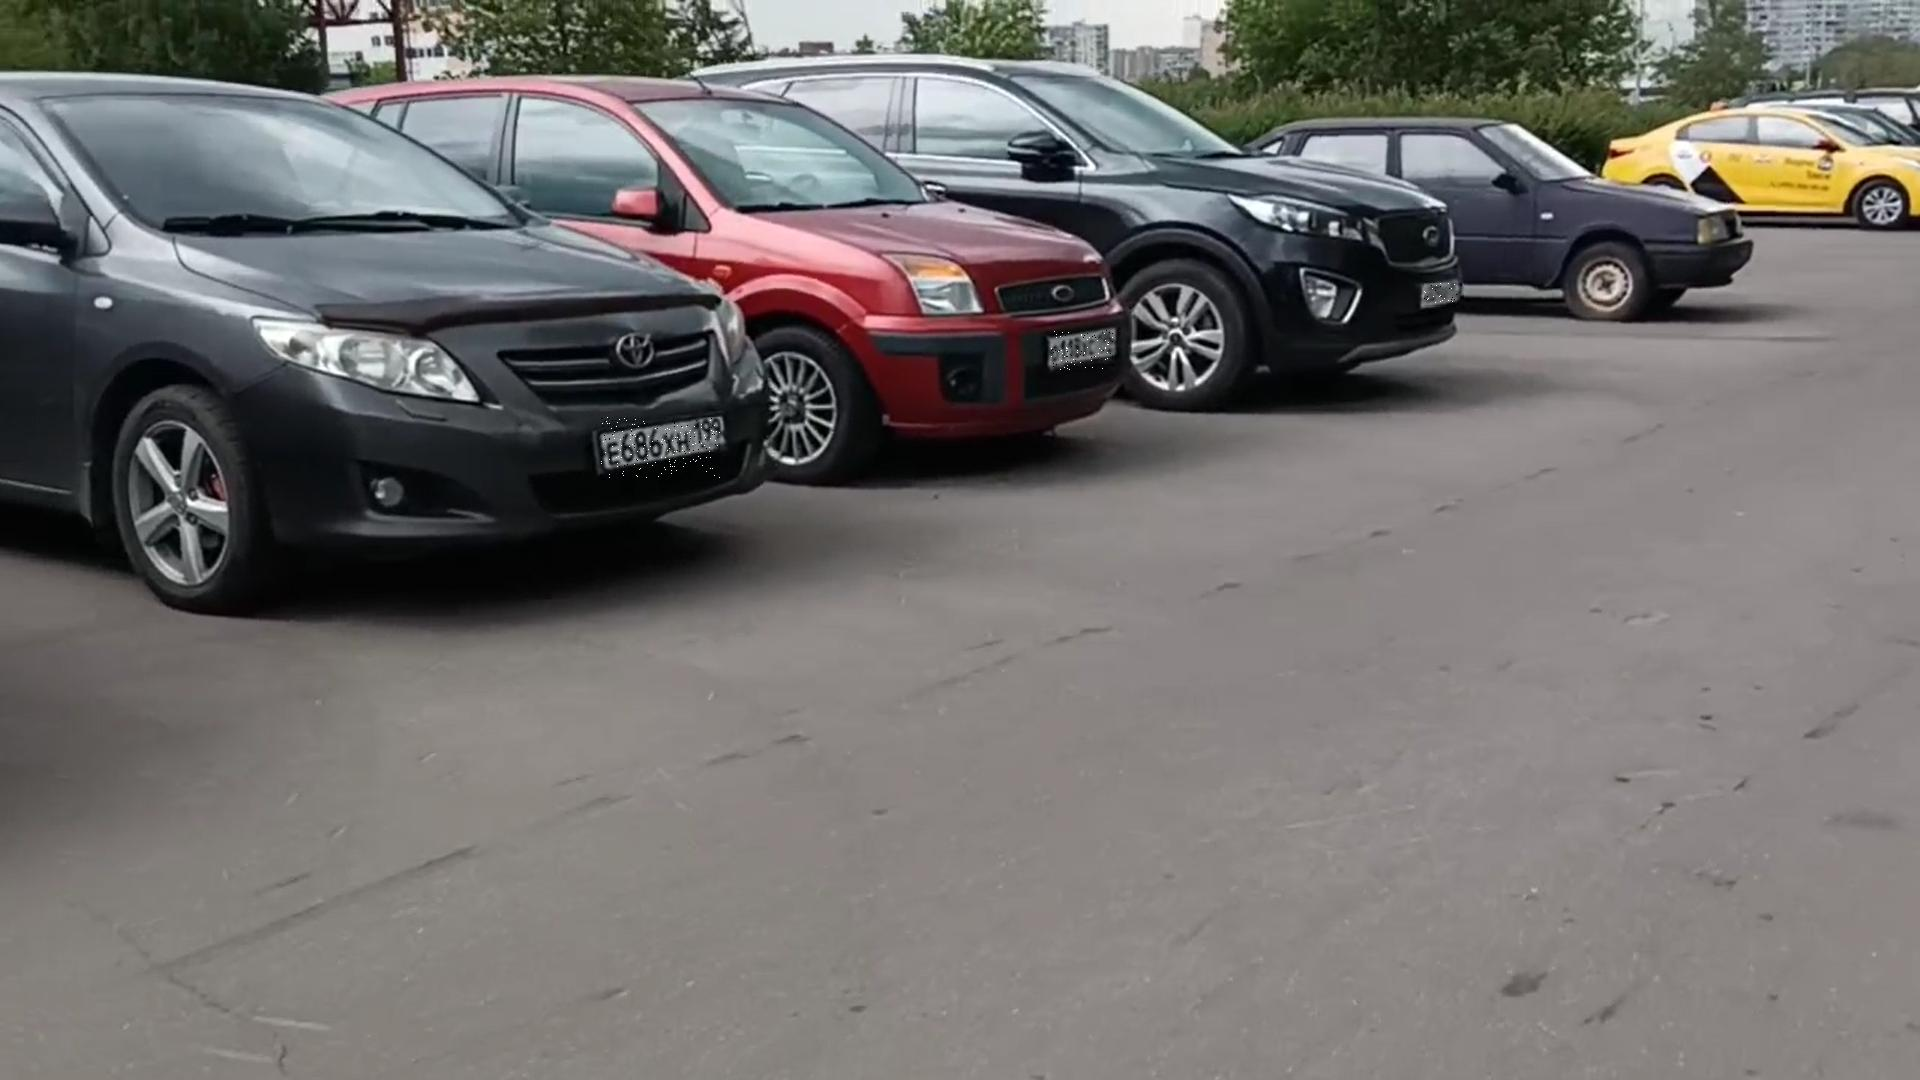plate: (601, 419, 721, 480), (1053, 331, 1115, 371), (1425, 285, 1465, 308)
